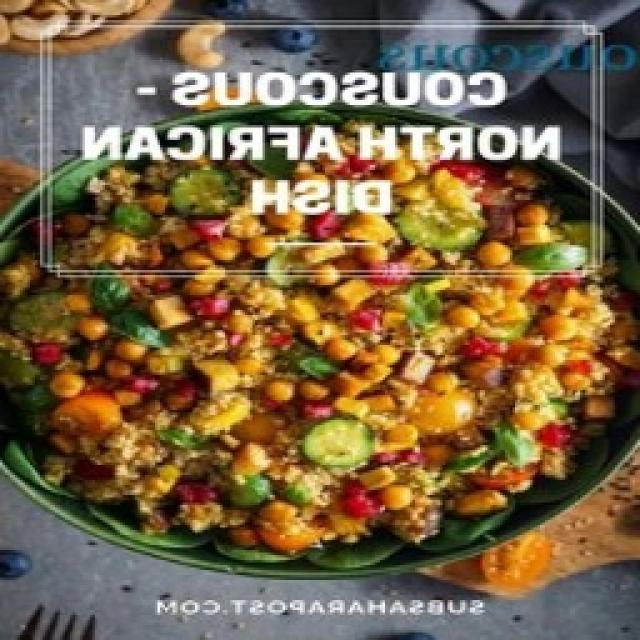Couscous: (0, 128, 640, 600)
